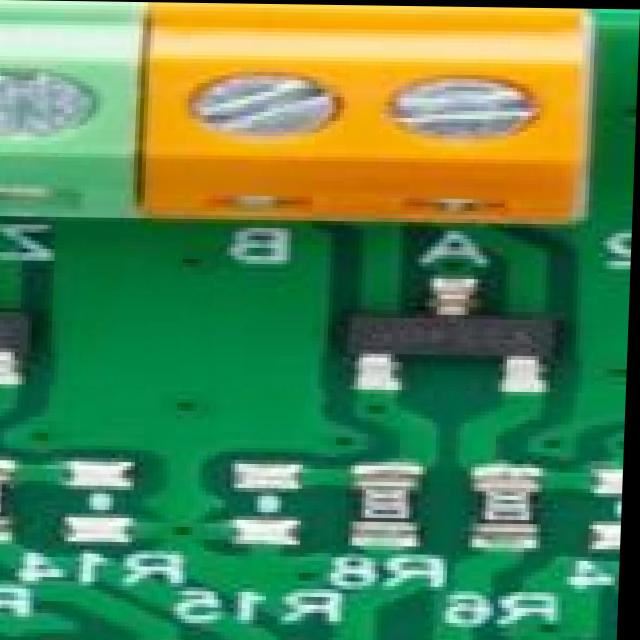connector: (150, 2, 592, 227), (0, 0, 140, 230)
resistor: (477, 478, 542, 532), (357, 480, 418, 531), (0, 472, 10, 520)
transistor: (345, 288, 560, 377), (0, 288, 32, 372)
